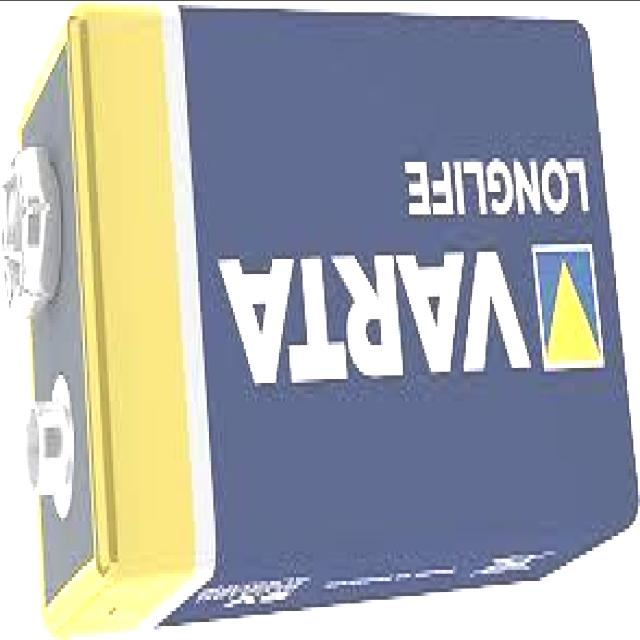9V: (2, 4, 638, 637)
